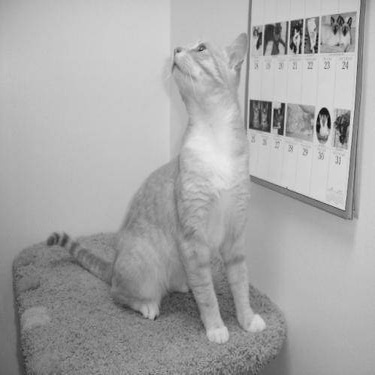cat: (18, 23, 334, 346)
